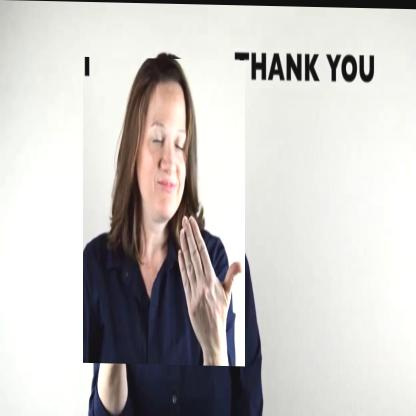ThankYou: (83, 56, 245, 365)
